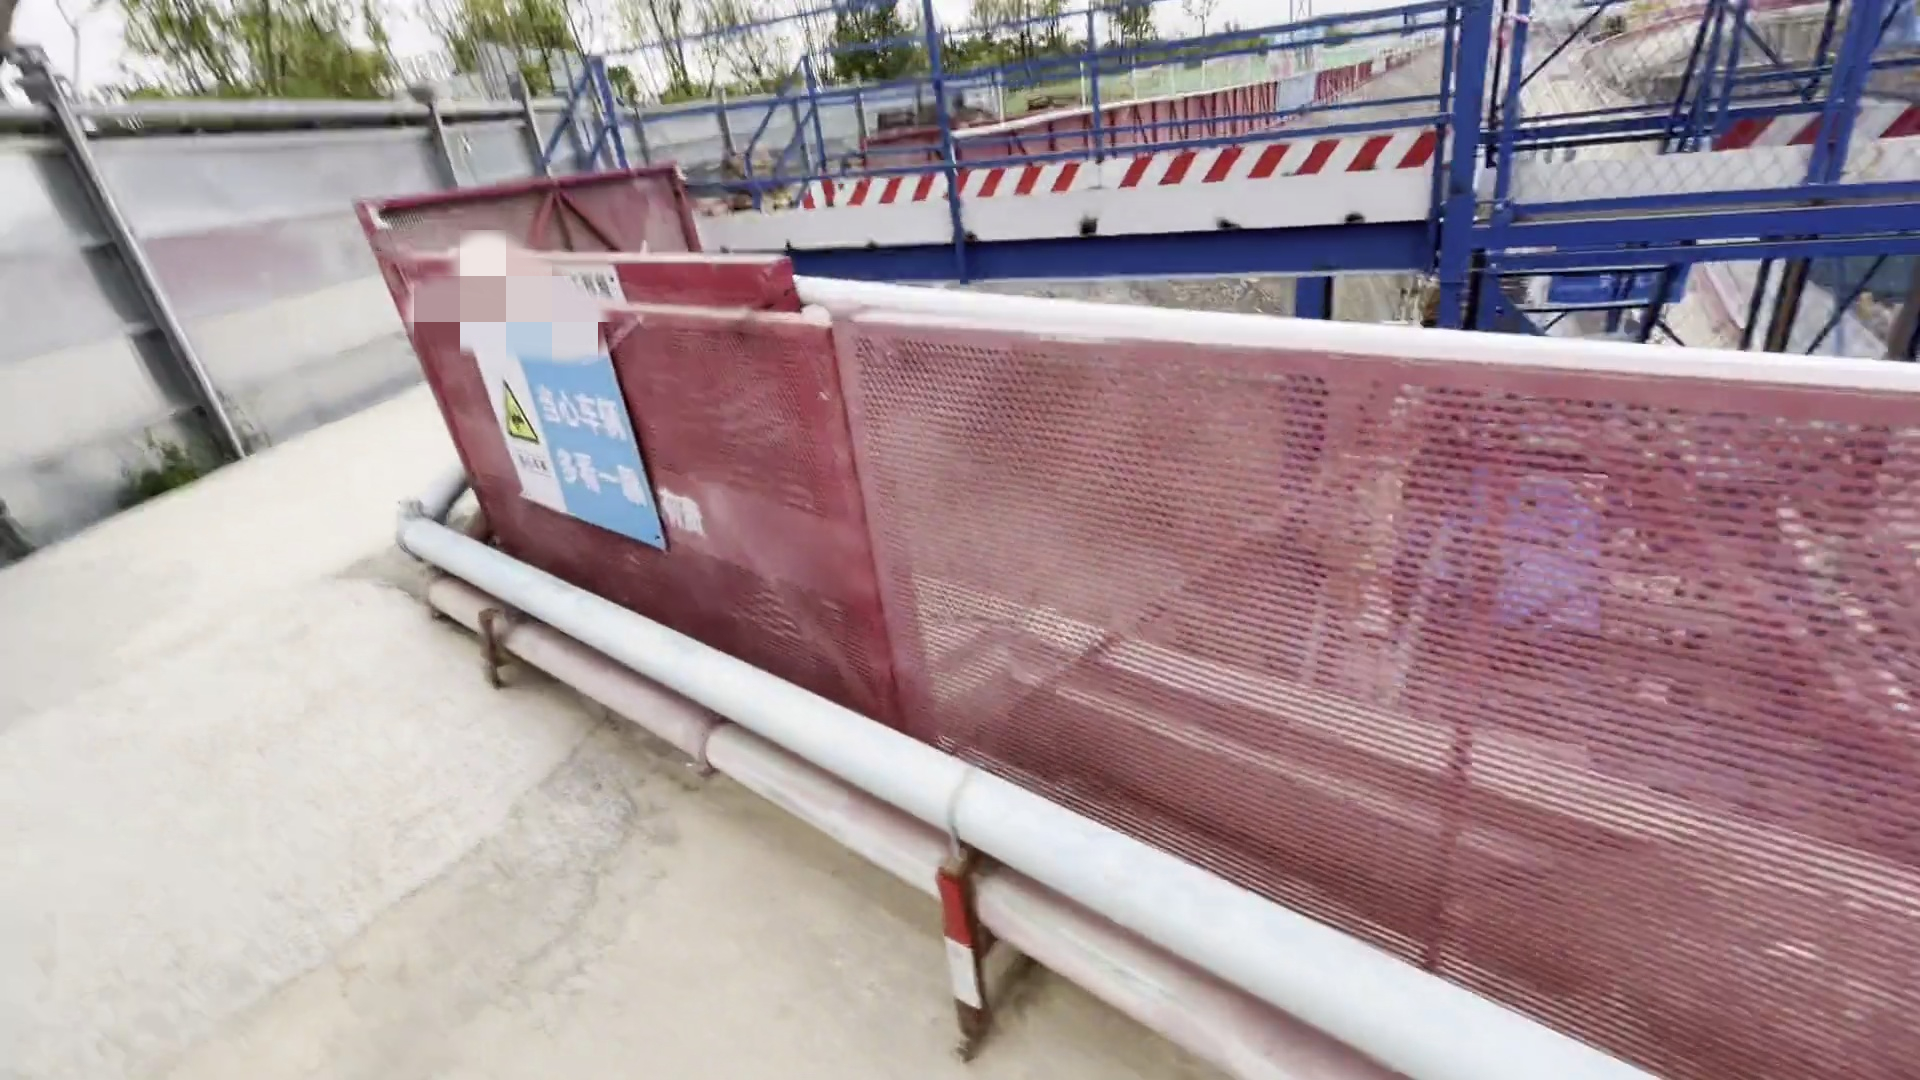fence: (365, 160, 1905, 1062)
slogan: (447, 258, 673, 567)
